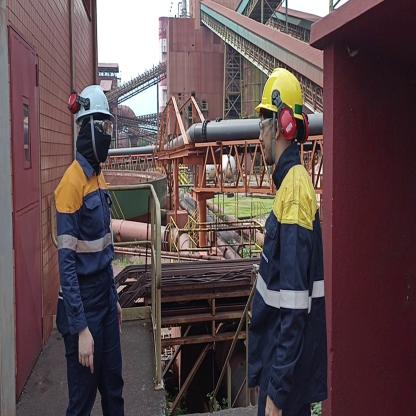Balaclava: (79, 114, 110, 167)
C_eletrica: (246, 179, 334, 416)
Capacete: (257, 66, 305, 118), (71, 81, 115, 116)
Operacional: (54, 166, 123, 324)
